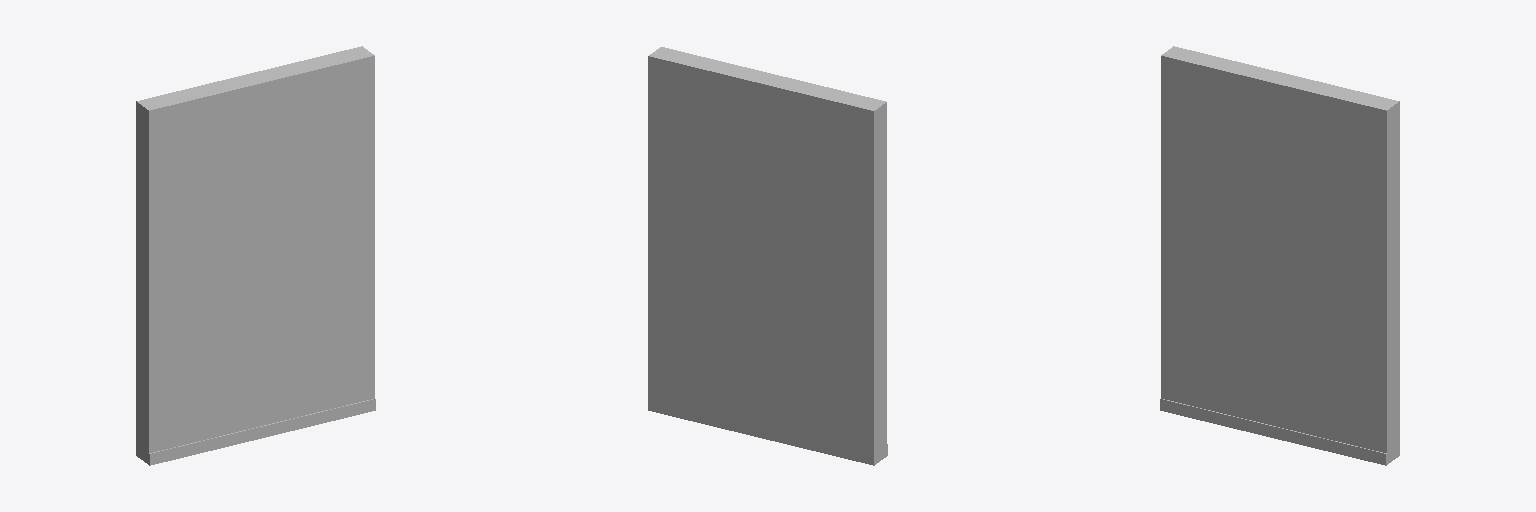
Rendered from Muro.obj.
The picture shows the model from 3 angles: view 1: azimuth 30°, elevation 25°; view 2: azimuth 150°, elevation 25°; view 3: azimuth 330°, elevation 25°; orthographic projection.
Parts seen in each view (by area): view 1: Muro; view 2: Muro; view 3: Muro.
Part boxes in pixels (bbox=[...]): Muro: bbox=[136, 46, 375, 465]; Muro: bbox=[648, 47, 887, 465]; Muro: bbox=[1160, 46, 1399, 465].
Bounding box in the file's own units: 2 × 3 × 0.2073.